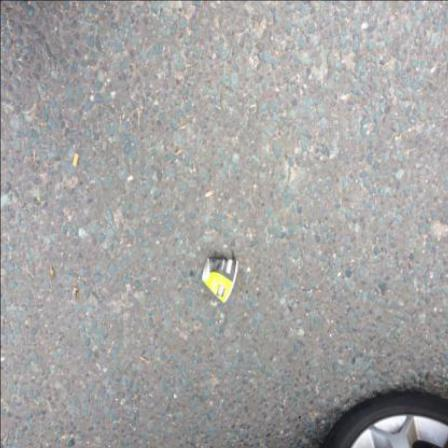Cup: (204, 258, 239, 304)
